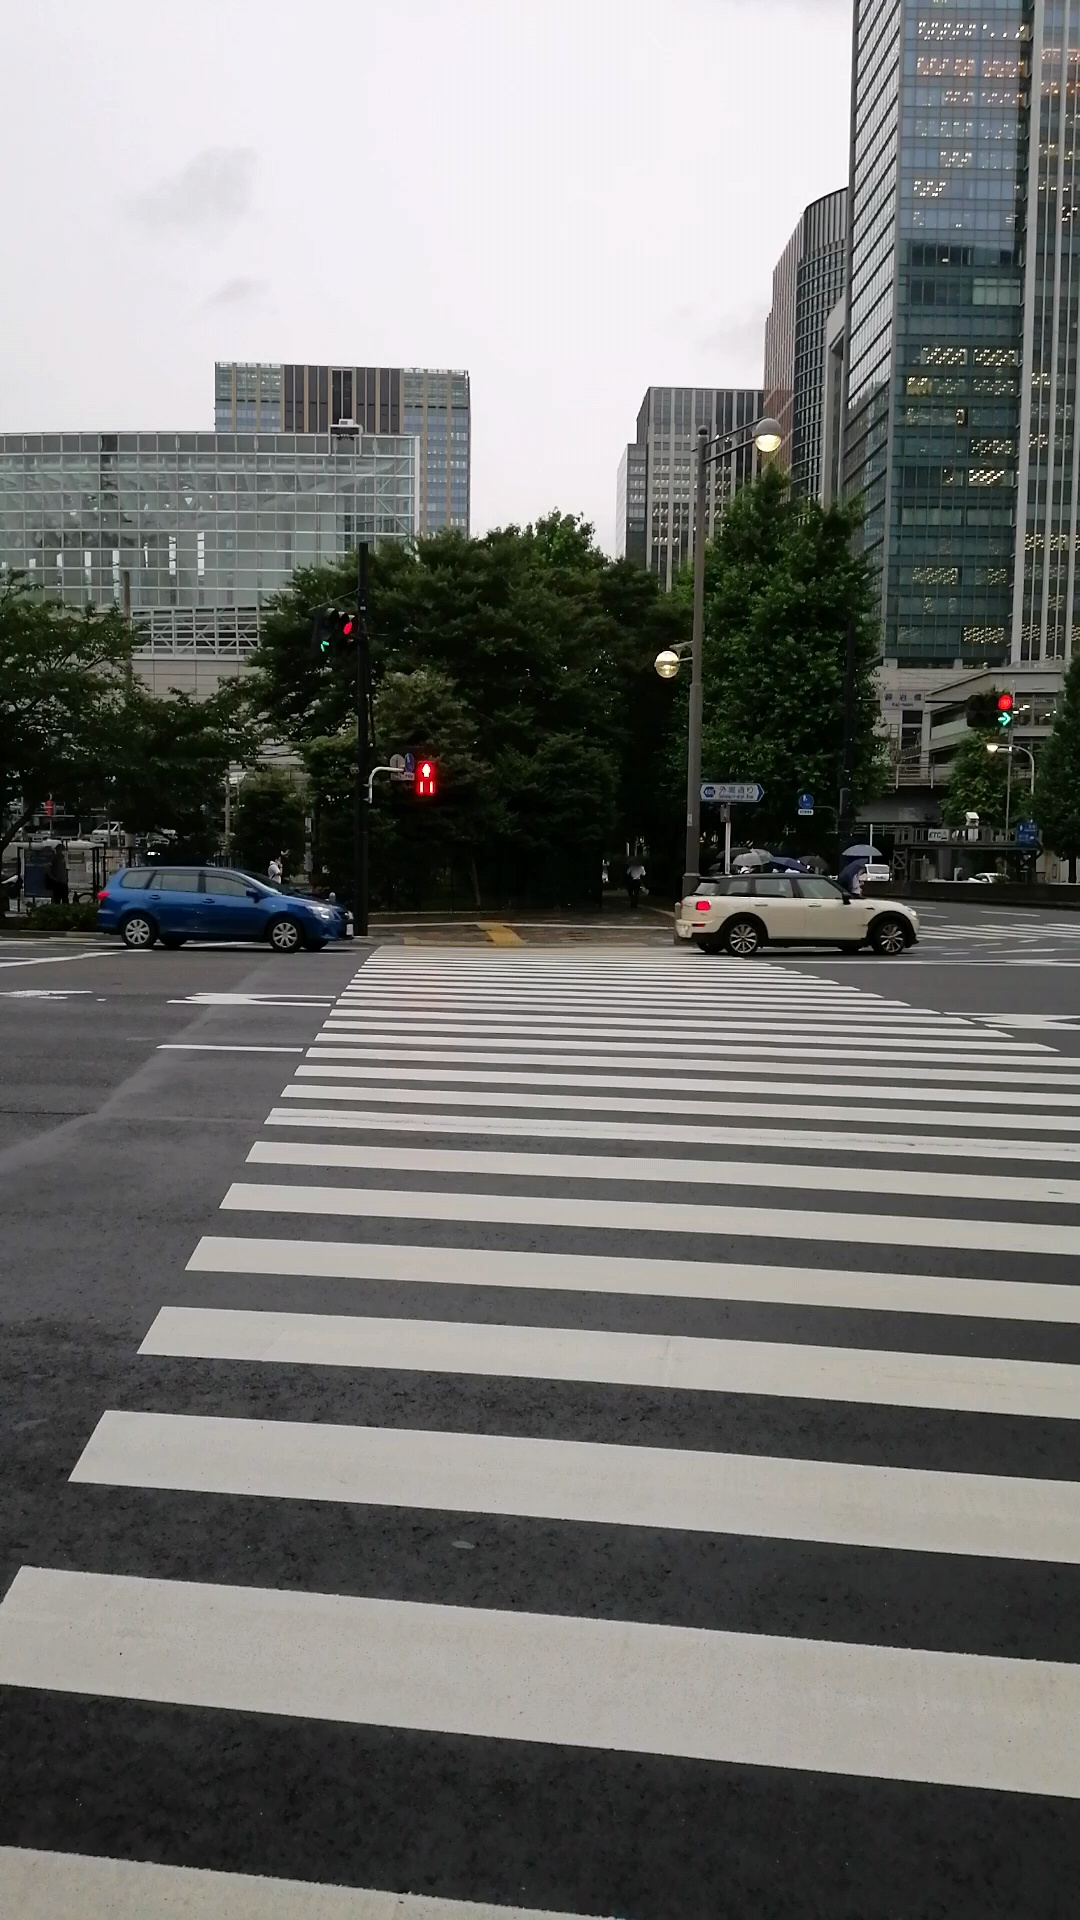red: (413, 758, 436, 799)
